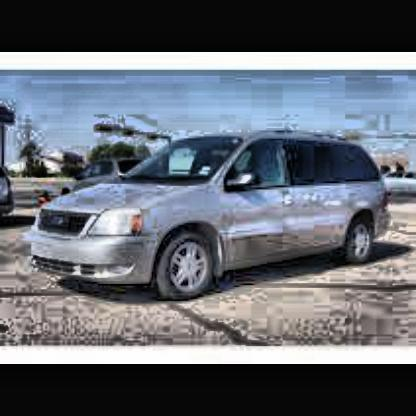Ford Freestar Minivan 2007: (30, 129, 391, 295)
